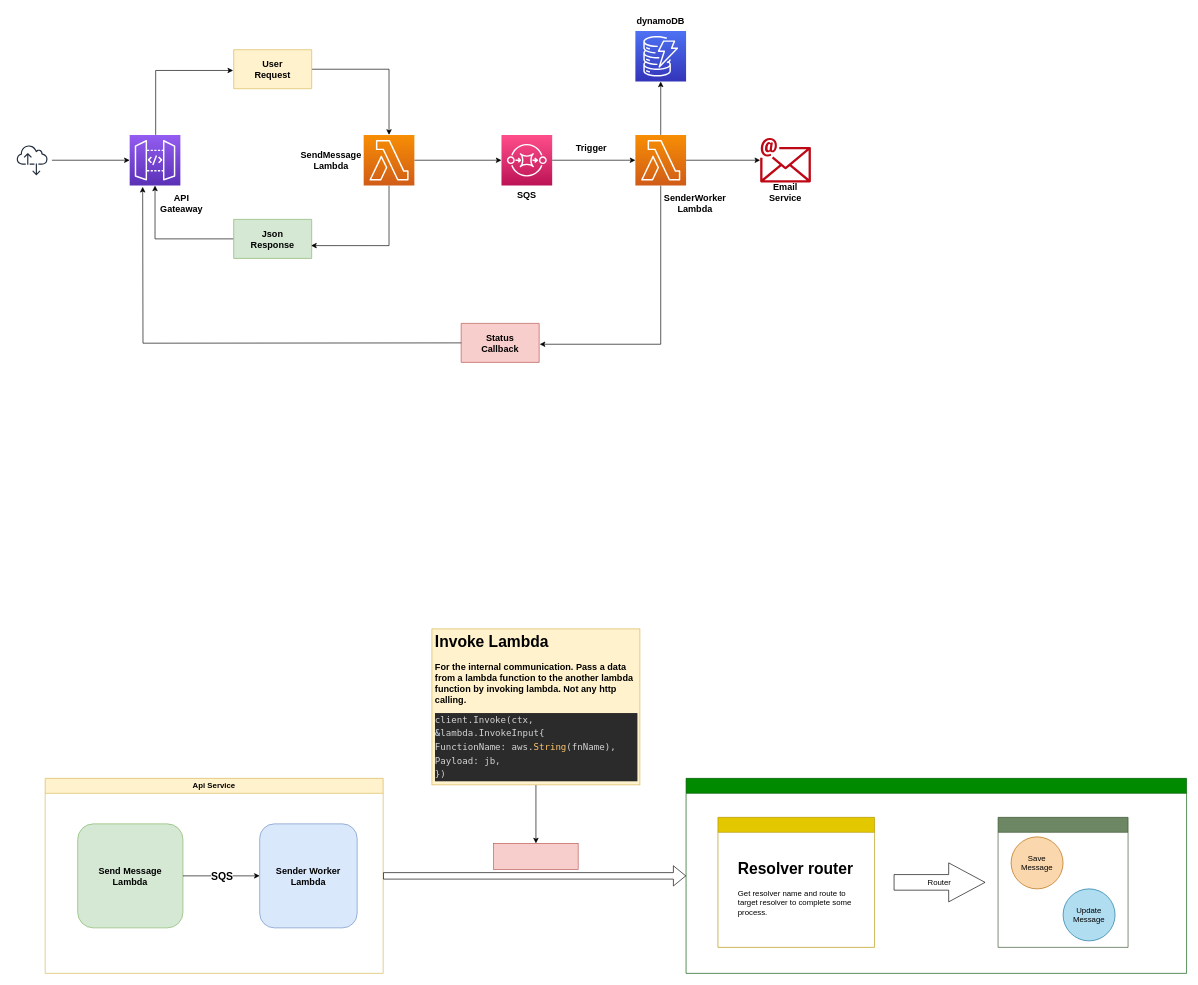
Some shapes in this 1198 by 985 pixel diagram are drawn without their labels. Each missing label, with the box of its shape:
FnService: (493, 843, 578, 869)
handler: (717, 817, 875, 947)
Interernet: (12, 140, 52, 180)
Message Service: (685, 778, 1187, 973)
resolvers: (997, 817, 1128, 947)
